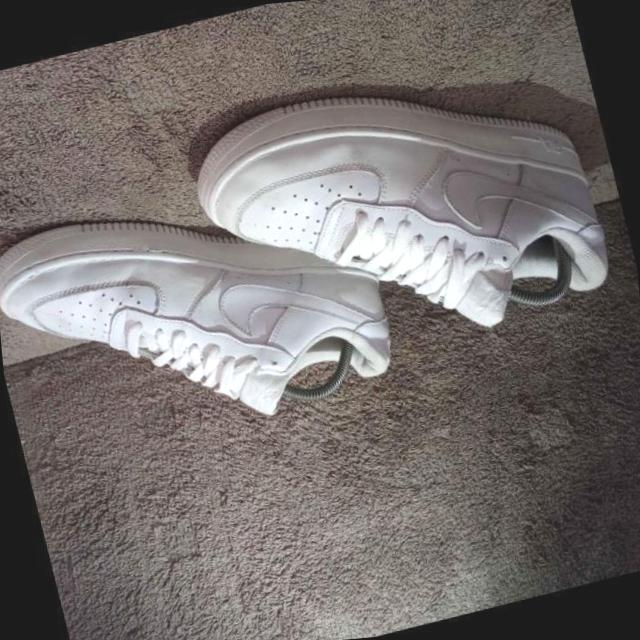nike_original_airforce: (178, 32, 630, 394), (0, 148, 407, 475)
